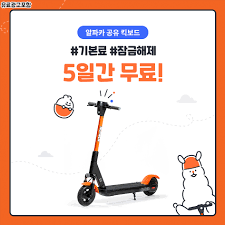kick_body: (104, 181, 141, 193)
kick_neck: (90, 116, 102, 171)
kick_wheel: (77, 184, 96, 206), (143, 174, 158, 196)
